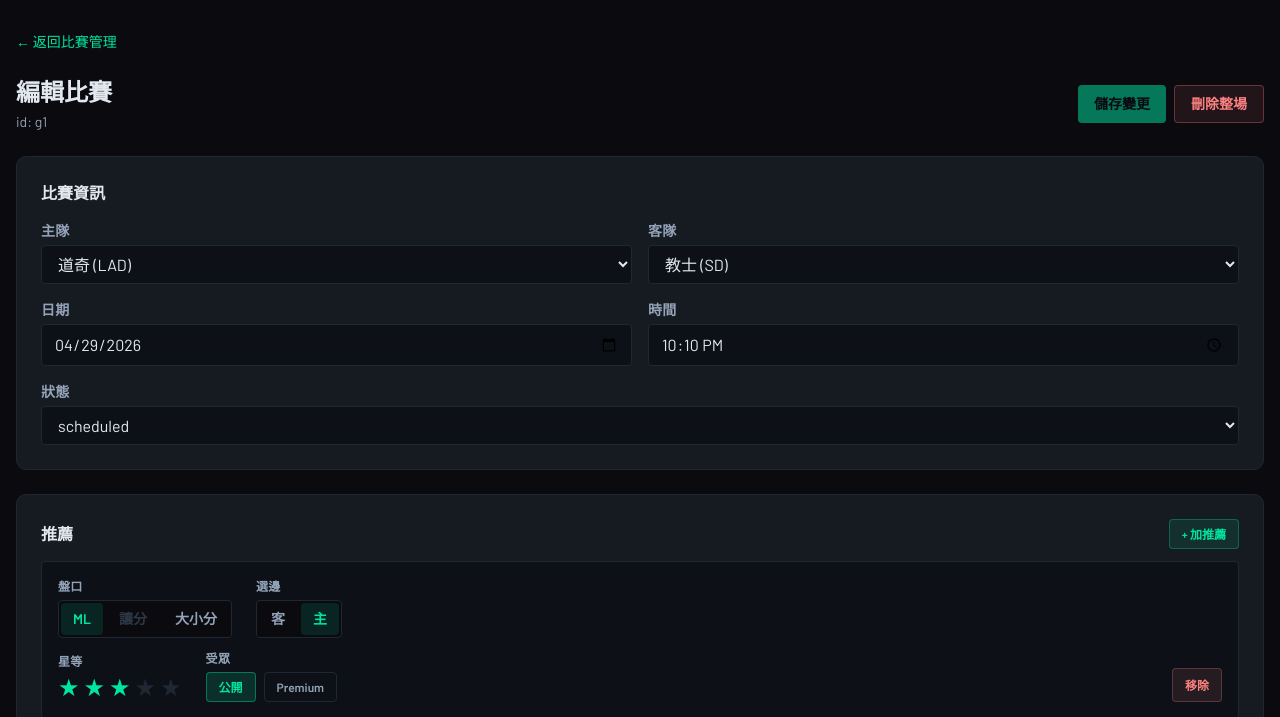
EditGamePage — form mode › Save is disabled if all recs are marked deleted (and no new recs added)
Click the button "移除".
click(1197, 685)  # box top-left (1172, 668), bottom-right (1222, 702)
(page scrolled)
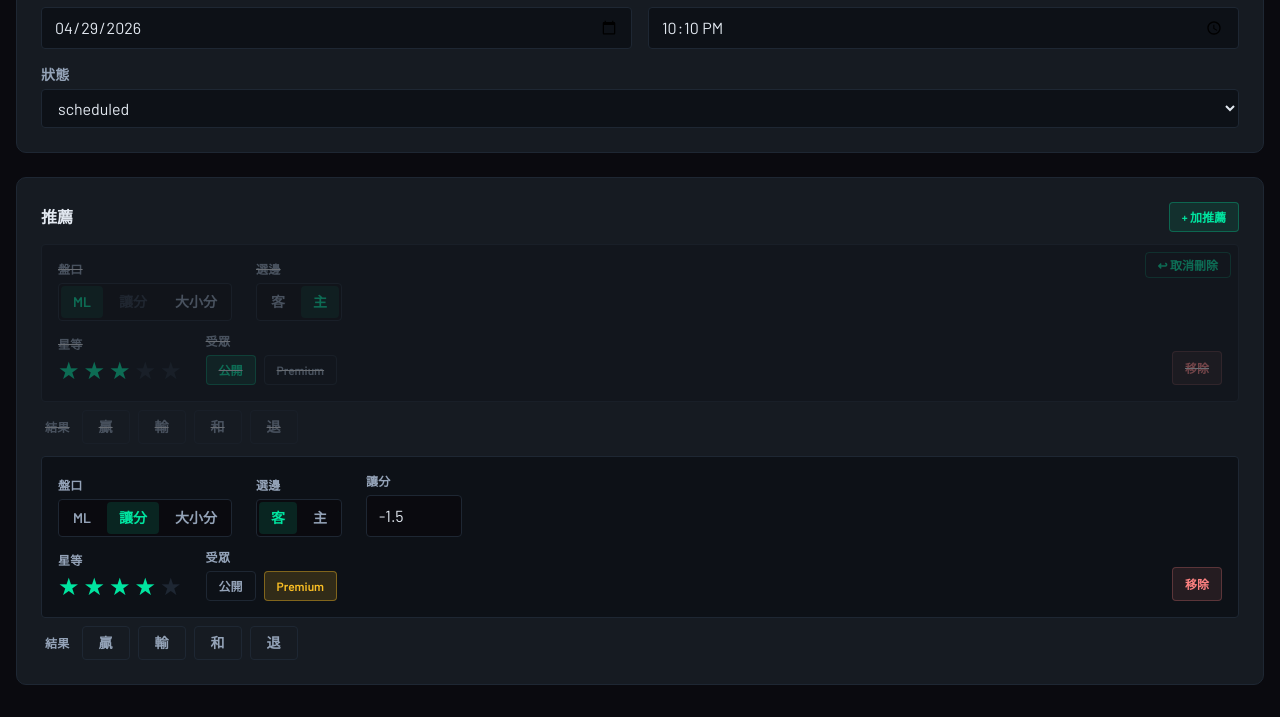
Click the 2nd button "移除".
click(1197, 584)  # box top-left (1172, 567), bottom-right (1222, 601)
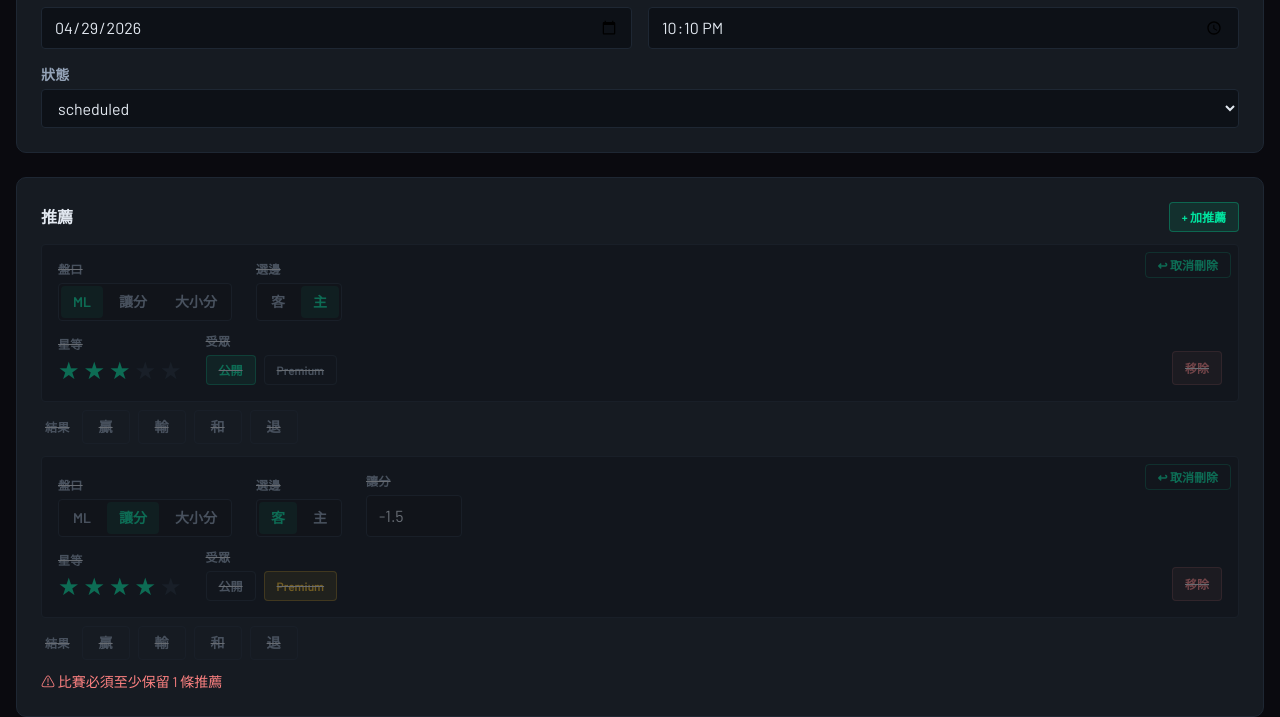
Check: the text "⚠ 比賽必須至少保留 1 條推薦" is shown, box top-left (41, 673), bottom-right (222, 690)
